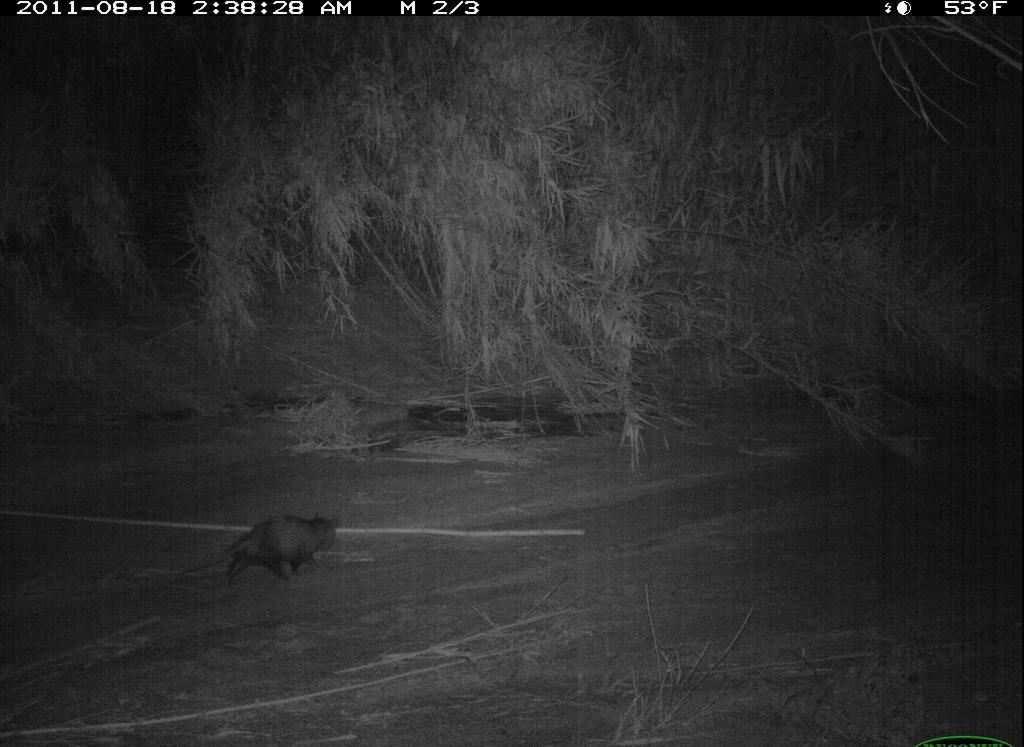opossum: (196, 502, 358, 589)
